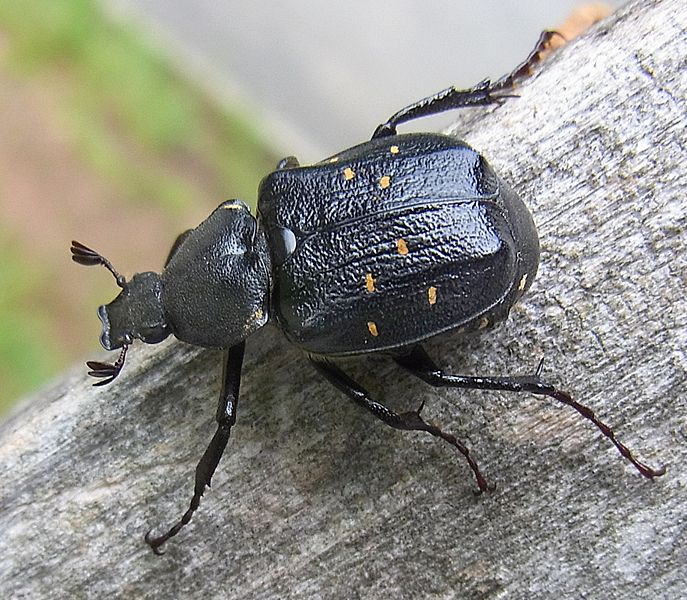Gnorimus_variabilis: (52, 11, 677, 559)
